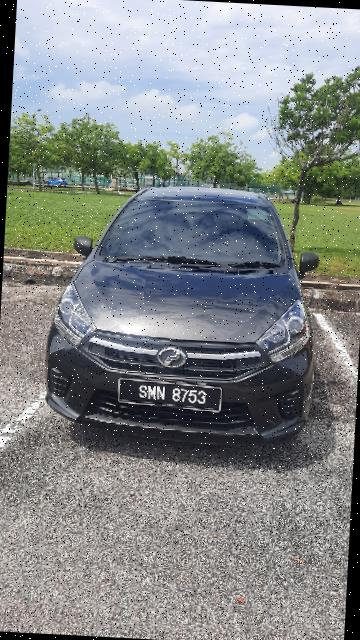License_Plate: (114, 373, 226, 416)
car: (37, 167, 337, 457)
